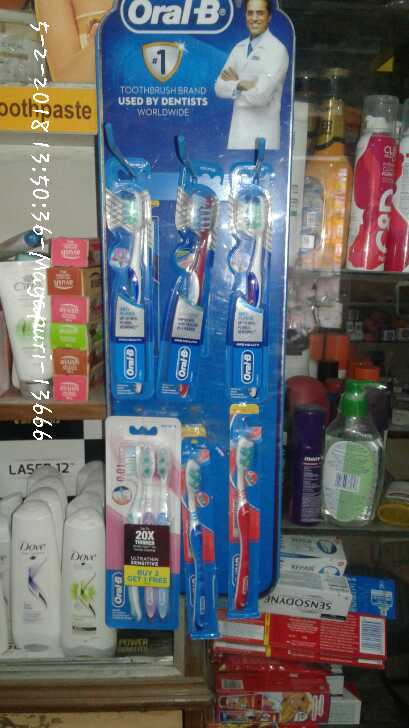oralb: (96, 173, 153, 396), (162, 175, 214, 396), (117, 442, 177, 622), (233, 170, 268, 391), (227, 432, 260, 616), (185, 451, 215, 636)
